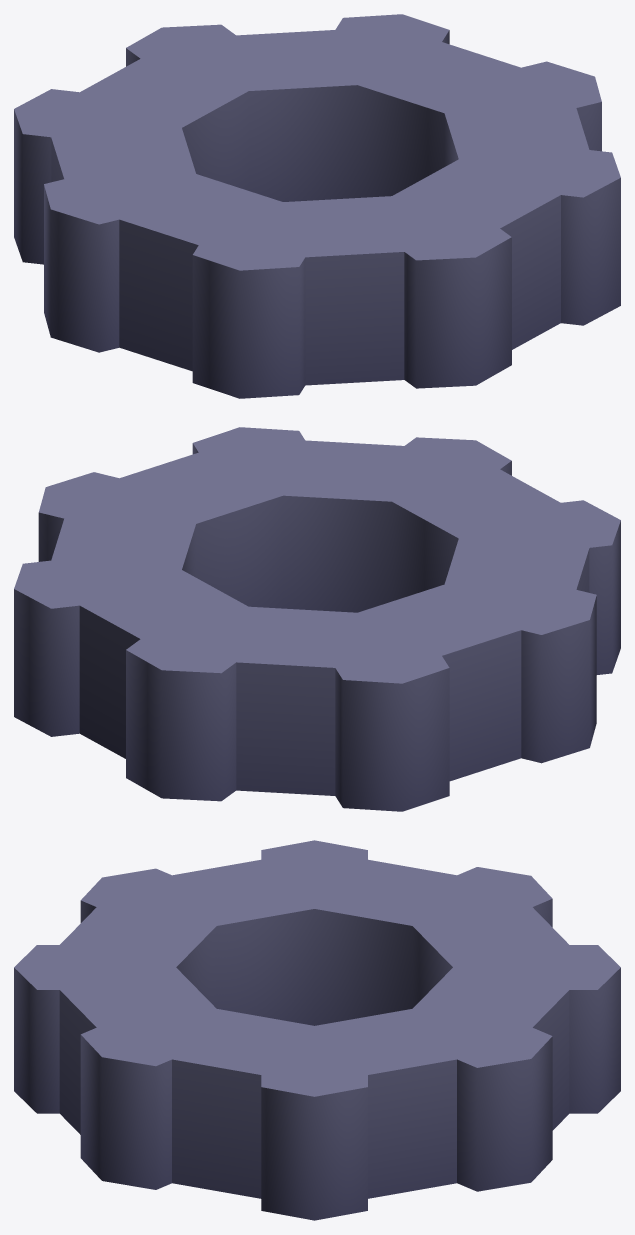
Rendered from cog-b.glb.
3 views of the same model, one above another, from view 1: azimuth 30°, elevation 25°; view 2: azimuth 150°, elevation 25°; view 3: azimuth 270°, elevation 25° (orthographic). The views are drawn at different scales.
Parts seen in each view (by area): view 1: cog-b; view 2: cog-b; view 3: cog-b.
Part boxes in pixels (x1,y1,x2,y2): cog-b: [14, 14, 620, 398]; cog-b: [14, 427, 620, 811]; cog-b: [14, 840, 620, 1220].
Bounding box in the file's own units: 1 × 0.225 × 1.
